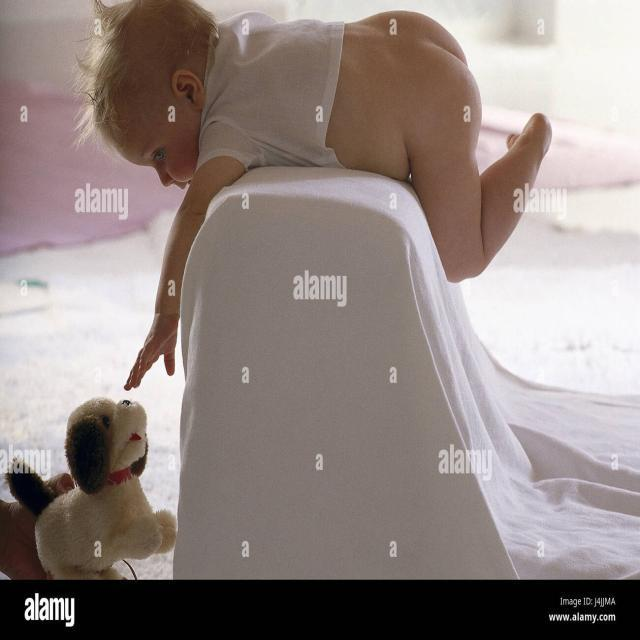soft-toy: (6, 398, 176, 578)
